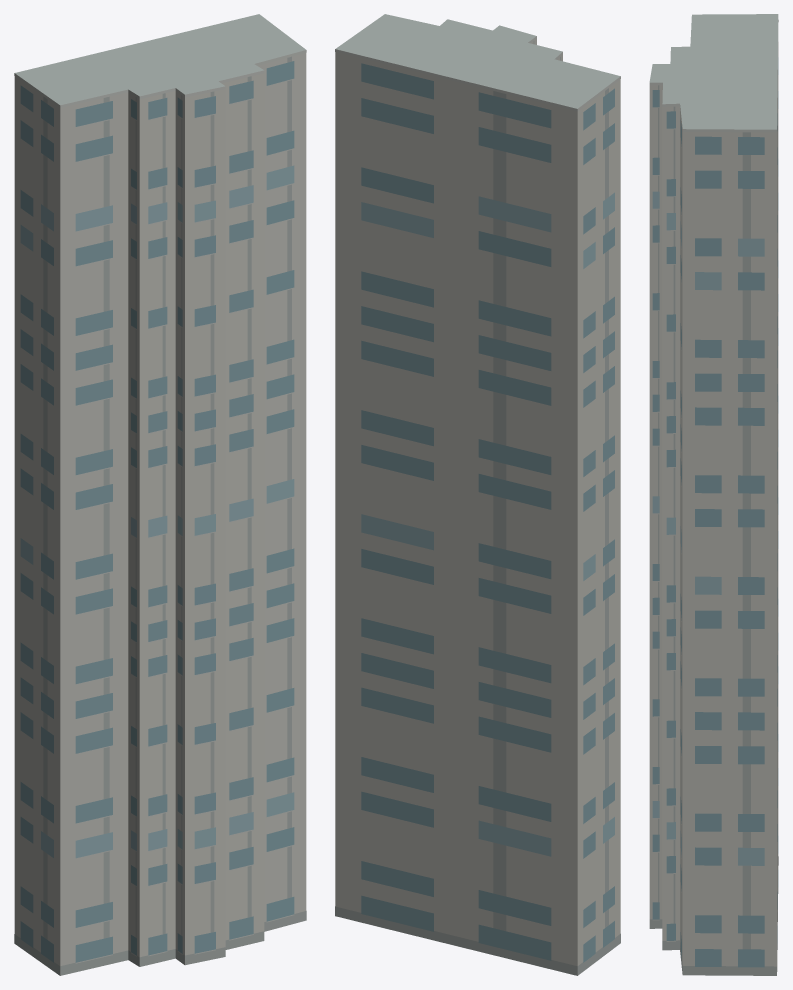
Rendered from survey-upis-32577744.glb.
3 renders of one model, left to right at view 1: azimuth 30°, elevation 25°; view 2: azimuth 150°, elevation 25°; view 3: azimuth 270°, elevation 25°, orthographic. The views are drawn at different scales.
Visible parts, largest first — view 1: survey-upis-32577744.tmp; view 2: survey-upis-32577744.tmp; view 3: survey-upis-32577744.tmp.
Part boxes in pixels (<box>): survey-upis-32577744.tmp: <box>14,14,306,975</box>; survey-upis-32577744.tmp: <box>335,14,620,975</box>; survey-upis-32577744.tmp: <box>649,14,778,975</box>.
Bounding box in the file's own units: 22.38 × 76.25 × 10.55.
